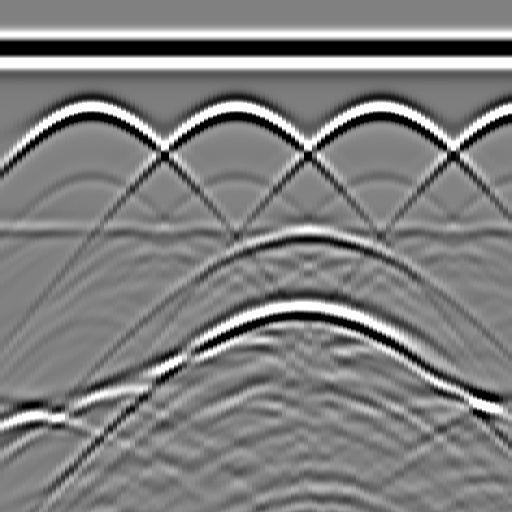grout_surface: (1, 216, 512, 246)
rebar: (69, 90, 109, 130), (214, 90, 254, 130), (358, 90, 398, 130), (502, 90, 512, 130)
rock_surface: (1, 337, 511, 417)
water_void: (274, 210, 334, 250)
